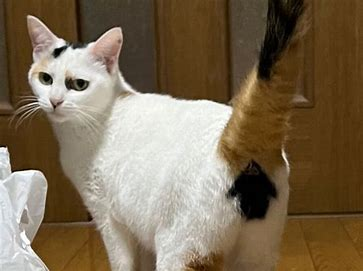cat: (17, 14, 300, 265)
